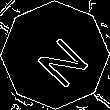N_NW: (23, 23, 87, 87)
